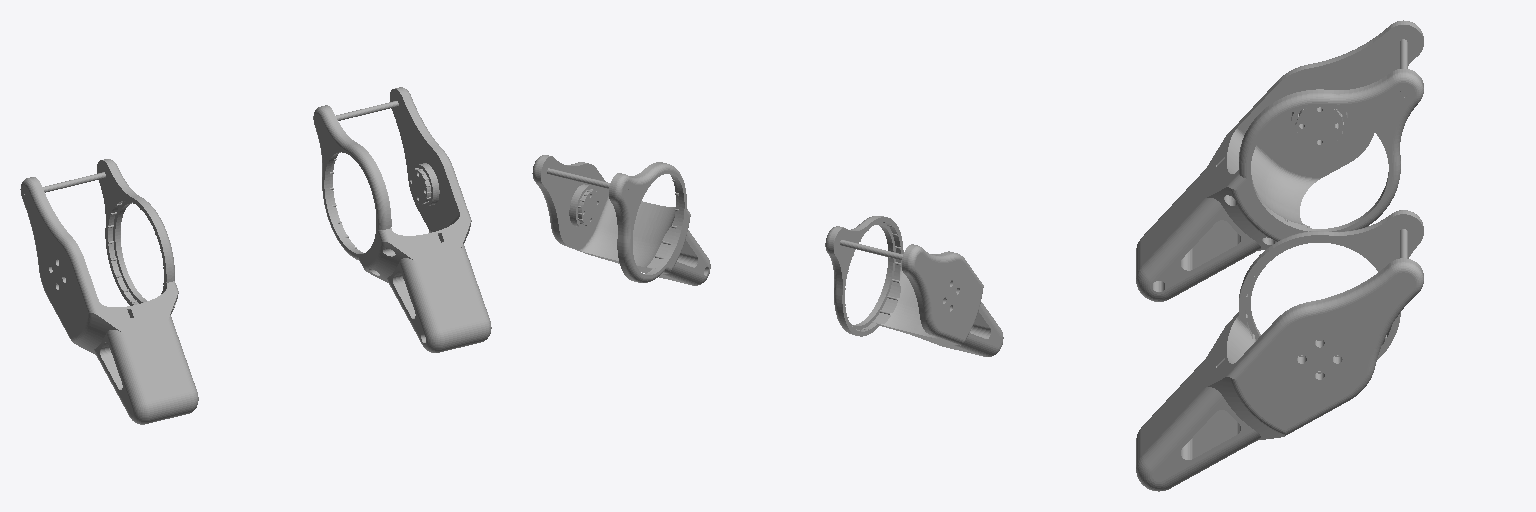
robot.urdf — Rocket:
<?xml version="1.0" ?>
<robot name="Rocket">

  <material name="silver">
    <color rgba="0.700 0.700 0.700 1.000"/>
  </material>

  <link name="Torso_Assy_1">
    <inertial>
      <origin xyz="0 0 0" rpy="0 0 0"/>
      <mass value="0.5096"/>
      <inertia ixx="0.001794" iyy="0.003277" izz="0.001952" ixy="0" iyz="0" ixz="0"/>
    </inertial>
    <visual>
      <origin xyz="0 0 0" rpy="0 0 0"/>
      <geometry>
        <mesh filename="package://meshes/Torso_Assy_1.stl" scale="0.001 0.001 0.001"/>
      </geometry>
      <material name="silver"/>
    </visual>
    <collision>
      <origin xyz="0 0 0" rpy="0 0 0"/>
      <geometry>
        <mesh filename="package://meshes/Torso_Assy_1.stl" scale="0.001 0.001 0.001"/>
      </geometry>
    </collision>
  </link>

  <joint name="Revolute1" type="revolute">
    <origin xyz="-0.066 0 0.113" rpy="0 0 0"/>
    <parent link="Torso_Assy_1"/>
    <child link="Hip_Assy_L_1"/>
    <axis xyz="0 0 1"/>
    <limit upper="0.2618" lower="-0.2618" effort="1000" velocity="100"/>
  </joint>

  <link name="Hip_Assy_L_1">
    <inertial>
      <origin xyz="0 0 0" rpy="0 0 0"/>
      <mass value="1.0175"/>
      <inertia ixx="0.000592" iyy="0.001156" izz="0.001114" ixy="0" iyz="0" ixz="0"/>
    </inertial>
    <visual>
      <origin xyz="0.066 0 -0.113" rpy="0 0 0"/>
      <geometry>
        <mesh filename="package://meshes/Hip_Assy_L_1.stl" scale="0.001 0.001 0.001"/>
      </geometry>
      <material name="silver"/>
    </visual>
    <collision>
      <origin xyz="0.066 0 -0.113" rpy="0 0 0"/>
      <geometry>
        <mesh filename="package://meshes/Hip_Assy_L_1.stl" scale="0.001 0.001 0.001"/>
      </geometry>
    </collision>
  </link>

  <joint name="Revolute2" type="revolute">
    <origin xyz="0.066 0 0.113" rpy="0 0 0"/>
    <parent link="Torso_Assy_1"/>
    <child link="Hip_Assy_R_1"/>
    <axis xyz="0 0 1"/>
    <limit upper="0.2618" lower="-0.2618" effort="1000" velocity="100"/>
  </joint>

  <link name="Hip_Assy_R_1">
    <inertial>
      <origin xyz="0 0 0" rpy="0 0 0"/>
      <mass value="1.0176"/>
      <inertia ixx="0.000592" iyy="0.001156" izz="0.001114" ixy="0" iyz="0" ixz="0"/>
    </inertial>
    <visual>
      <origin xyz="-0.066 0 -0.113" rpy="0 0 0"/>
      <geometry>
        <mesh filename="package://meshes/Hip_Assy_R_1.stl" scale="0.001 0.001 0.001"/>
      </geometry>
      <material name="silver"/>
    </visual>
    <collision>
      <origin xyz="-0.066 0 -0.113" rpy="0 0 0"/>
      <geometry>
        <mesh filename="package://meshes/Hip_Assy_R_1.stl" scale="0.001 0.001 0.001"/>
      </geometry>
    </collision>
  </link>

  <joint name="Revolute3" type="revolute">
    <origin xyz="-0.0491 0 -0.043" rpy="0 0 0"/>
    <parent link="Hip_Assy_L_1"/>
    <child link="Thigh_Assy_L_1"/>
    <axis xyz="1 0 0"/>
    <limit upper="0.1745" lower="-0.1745" effort="1000" velocity="100"/>
  </joint>

  <link name="Thigh_Assy_L_1">
    <inertial>
      <origin xyz="0 0 0" rpy="0 0 0"/>
      <mass value="1.2254"/>
      <inertia ixx="0.002582" iyy="0.001994" izz="0.001962" ixy="-0.000302" iyz="0.000789" ixz="0.000307"/>
    </inertial>
    <visual>
      <origin xyz="0.1151 0 -0.07" rpy="0 0 0"/>
      <geometry>
        <mesh filename="package://meshes/Thigh_Assy_L_1.stl" scale="0.001 0.001 0.001"/>
      </geometry>
      <material name="silver"/>
    </visual>
    <collision>
      <origin xyz="0.1151 0 -0.07" rpy="0 0 0"/>
      <geometry>
        <mesh filename="package://meshes/Thigh_Assy_L_1.stl" scale="0.001 0.001 0.001"/>
      </geometry>
    </collision>
  </link>

  <joint name="Revolute4" type="revolute">
    <origin xyz="0.0491 0 -0.043" rpy="0 0 0"/>
    <parent link="Hip_Assy_R_1"/>
    <child link="Thigh_Assy_R_1"/>
    <axis xyz="1 0 0"/>
    <limit upper="0.1745" lower="-0.1745" effort="1000" velocity="100"/>
  </joint>

  <link name="Thigh_Assy_R_1">
    <inertial>
      <origin xyz="0 0 0" rpy="0 0 0"/>
      <mass value="1.2254"/>
      <inertia ixx="0.002582" iyy="0.001994" izz="0.001962" ixy="0.000302" iyz="0.000789" ixz="-0.000307"/>
    </inertial>
    <visual>
      <origin xyz="-0.1151 0 -0.07" rpy="0 0 0"/>
      <geometry>
        <mesh filename="package://meshes/Thigh_Assy_R_1.stl" scale="0.001 0.001 0.001"/>
      </geometry>
      <material name="silver"/>
    </visual>
    <collision>
      <origin xyz="-0.1151 0 -0.07" rpy="0 0 0"/>
      <geometry>
        <mesh filename="package://meshes/Thigh_Assy_R_1.stl" scale="0.001 0.001 0.001"/>
      </geometry>
    </collision>
  </link>

  <joint name="Revolute5" type="revolute">
    <origin xyz="-0.0488 0.099 -0.099" rpy="0 0 0"/>
    <parent link="Thigh_Assy_L_1"/>
    <child link="Calf_Assy_L_1"/>
    <axis xyz="-1 0 0"/>
    <limit upper="0.1745" lower="-0.1745" effort="1000" velocity="100"/>
  </joint>

  <link name="Calf_Assy_L_1">
    <inertial>
      <origin xyz="0 0 0" rpy="0 0 0"/>
      <mass value="0.1220"/>
      <inertia ixx="0.000542" iyy="0.000325" izz="0.000375" ixy="0.000015" iyz="-0.000243" ixz="0.000012"/>
    </inertial>
    <visual>
      <origin xyz="0.1639 -0.099 0.029" rpy="0 0 0"/>
      <geometry>
        <mesh filename="package://meshes/Calf_Assy_L_1.stl" scale="0.001 0.001 0.001"/>
      </geometry>
      <material name="silver"/>
    </visual>
    <collision>
      <origin xyz="0.1639 -0.099 0.029" rpy="0 0 0"/>
      <geometry>
        <mesh filename="package://meshes/Calf_Assy_L_1.stl" scale="0.001 0.001 0.001"/>
      </geometry>
    </collision>
  </link>

  <joint name="Revolute6" type="revolute">
    <origin xyz="0.0488 0.099 -0.099" rpy="0 0 0"/>
    <parent link="Thigh_Assy_R_1"/>
    <child link="Calf_Assy_R_1"/>
    <axis xyz="-1 0 0"/>
    <limit upper="0.1745" lower="-0.1745" effort="1000" velocity="100"/>
  </joint>

  <link name="Calf_Assy_R_1">
    <inertial>
      <origin xyz="0 0 0" rpy="0 0 0"/>
      <mass value="0.1220"/>
      <inertia ixx="0.000542" iyy="0.000325" izz="0.000375" ixy="-0.000015" iyz="-0.000243" ixz="-0.000012"/>
    </inertial>
    <visual>
      <origin xyz="-0.1639 -0.099 0.029" rpy="0 0 0"/>
      <geometry>
        <mesh filename="package://meshes/Calf_Assy_R_1.stl" scale="0.001 0.001 0.001"/>
      </geometry>
      <material name="silver"/>
    </visual>
    <collision>
      <origin xyz="-0.1639 -0.099 0.029" rpy="0 0 0"/>
      <geometry>
        <mesh filename="package://meshes/Calf_Assy_R_1.stl" scale="0.001 0.001 0.001"/>
      </geometry>
    </collision>
  </link>

</robot>

--- Facts derived from the render (not from the file) ---
Views: 3 orthographic renders of the robot side by side, from view 1: azimuth 30°, elevation 25°; view 2: azimuth 150°, elevation 25°; view 3: azimuth 270°, elevation 25°.
Model Rocket with 7 links and 6 joints (6 revolute), rooted at Torso_Assy_1, posed every joint at zero.
Visible links, largest first — view 1: Calf_Assy_L_1, Calf_Assy_R_1; view 2: Calf_Assy_R_1, Calf_Assy_L_1; view 3: Calf_Assy_L_1, Calf_Assy_R_1.
Boxes of the visible links, <box> form: Calf_Assy_L_1: <box>20,159,198,424</box>; Calf_Assy_R_1: <box>313,87,491,352</box>; Calf_Assy_R_1: <box>532,155,710,285</box>; Calf_Assy_L_1: <box>825,216,1003,356</box>; Calf_Assy_L_1: <box>1136,20,1423,301</box>; Calf_Assy_R_1: <box>1136,210,1423,491</box>.
Bounding box of the posed robot: 0.3602 × 0.1772 × 0.1631 m (x, y, z).
Meshes: 7 distinct files referenced, 2 mesh visuals loaded (2 binary STL); not drawn: 5 (reference not matched to a file when rendering).